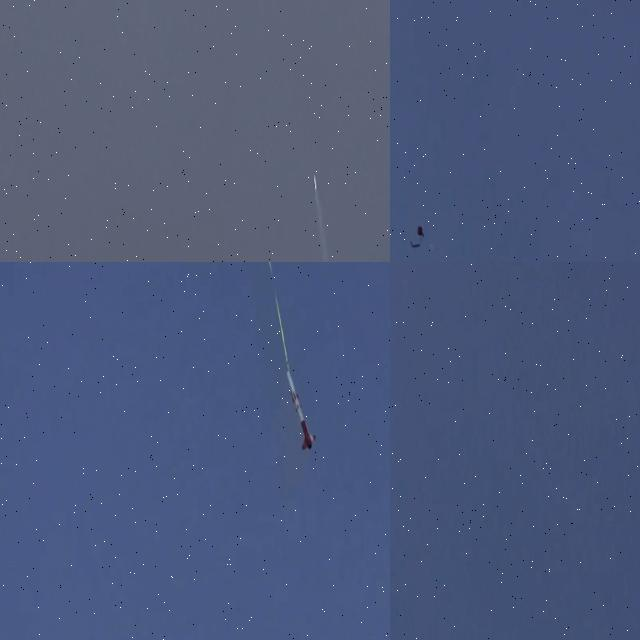Rocket: (284, 366, 320, 452), (314, 176, 316, 190)
